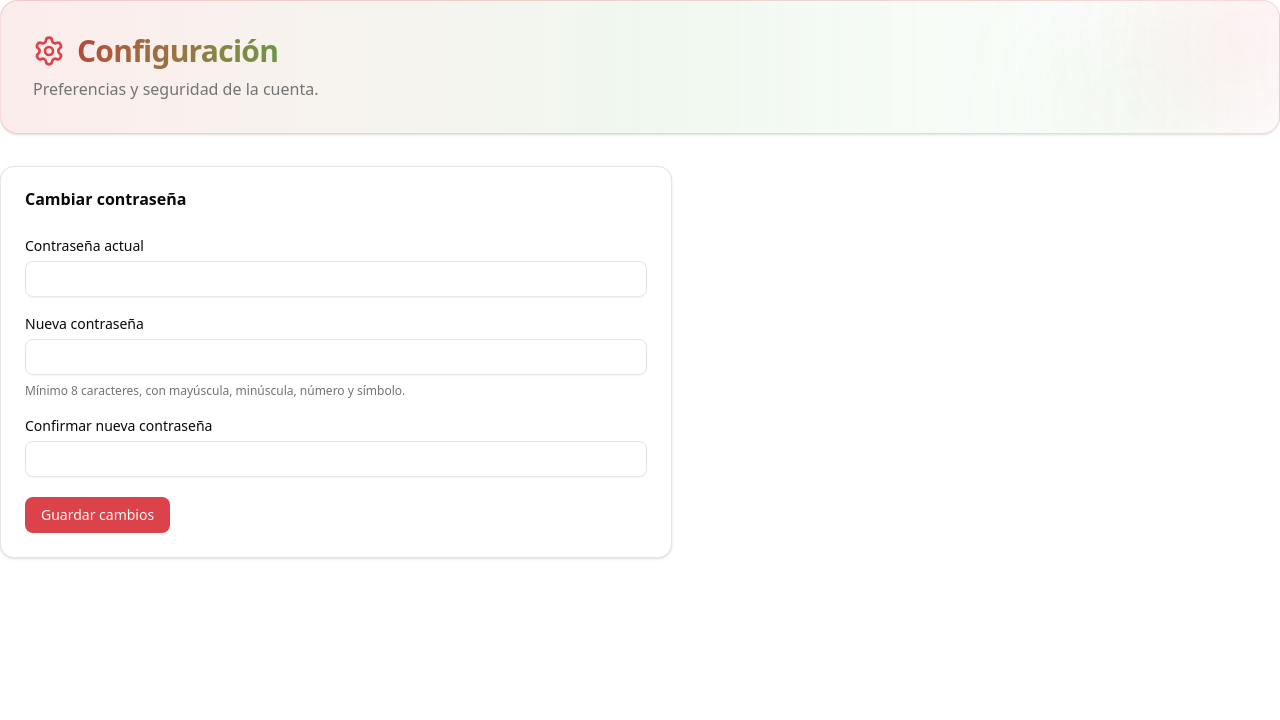
it: Configuracion - Cambio de contraseña › debe mostrar error cuando la nueva contraseña no cumple los requisitos
Type "Current123!" into the password field labelled "Contraseña actual" at (336, 279), box [25, 261, 647, 297]
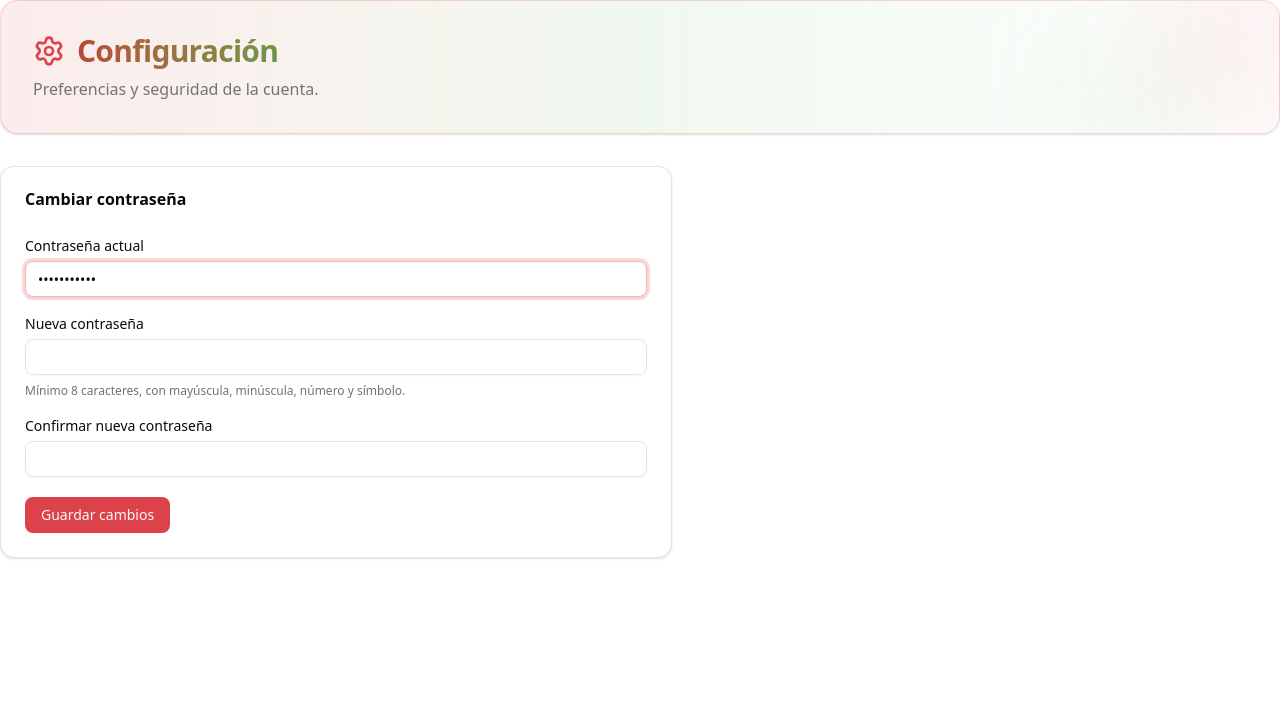
Type "weak" into the password field labelled "Nueva contraseña" at (336, 357), box [25, 339, 647, 375]
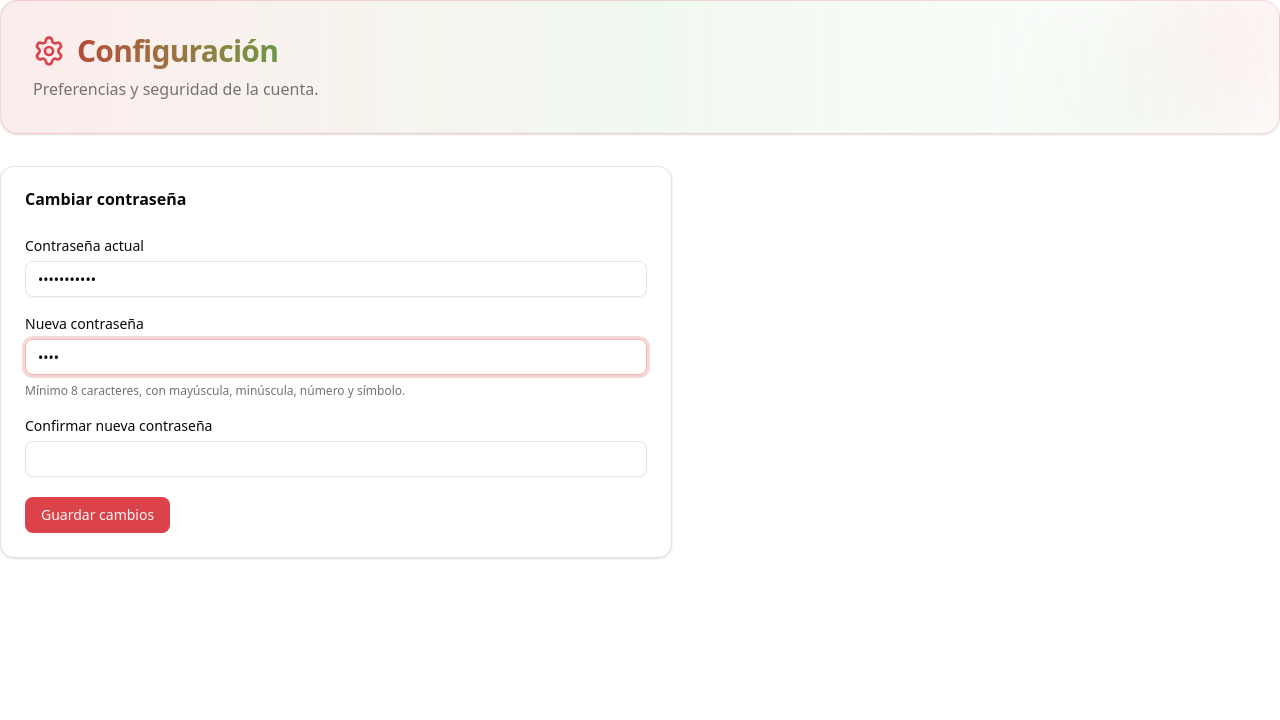
Type "weak" into the password field labelled "Confirmar nueva contraseña" at (336, 459), box [25, 441, 647, 477]
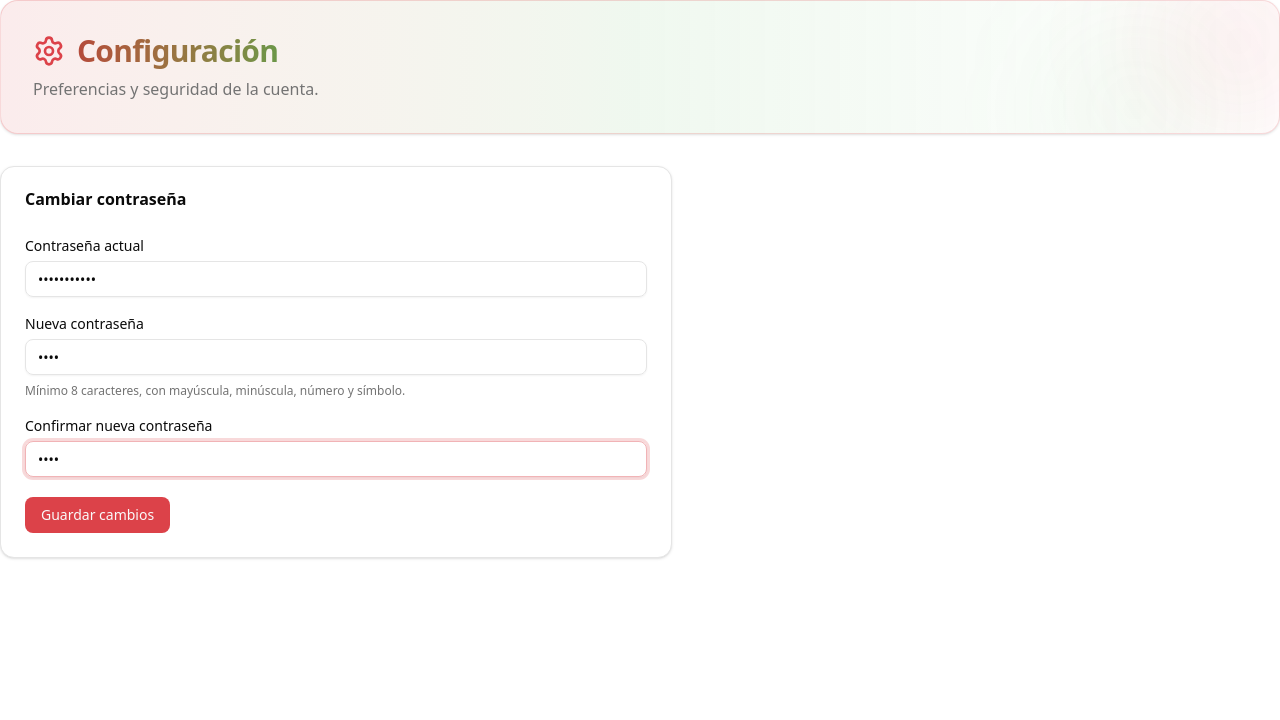
Click the button "Guardar cambios" at (98, 515), box [25, 497, 170, 533]
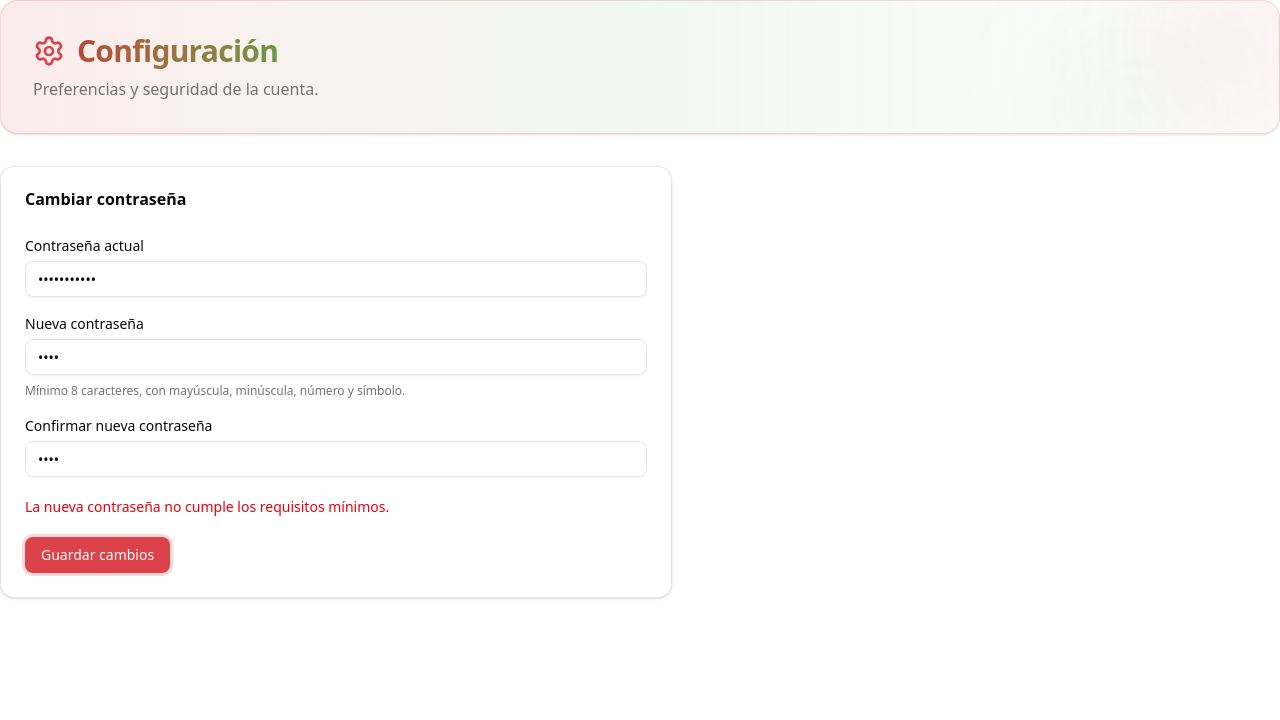
expect the text "La nueva contraseña no cumple los requisitos mínimos." is shown: met, box [25, 497, 389, 516]
